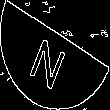N_NE: (32, 23, 78, 87)
